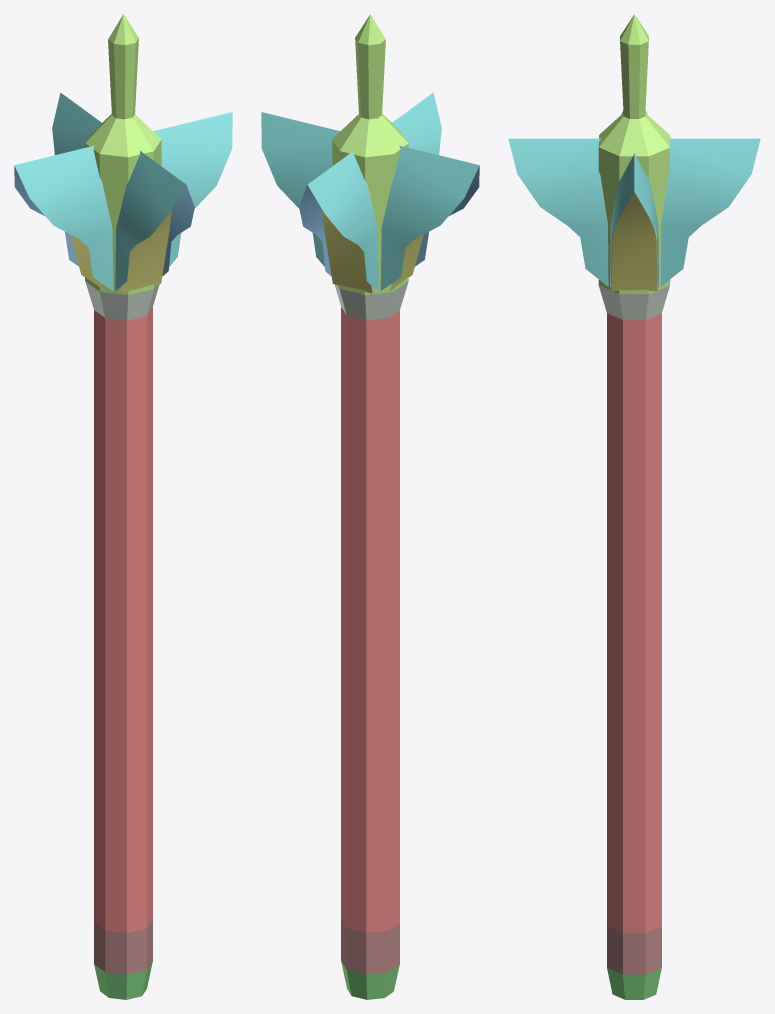
The model's file is O_E_ACC_Top.gltf.
3 renders of one model, left to right at view 1: azimuth 30°, elevation 25°; view 2: azimuth 150°, elevation 25°; view 3: azimuth 270°, elevation 25°, orthographic.
Visible parts, largest first — view 1: O_E_ACC_Top; view 2: O_E_ACC_Top; view 3: O_E_ACC_Top.
Boxes of the visible parts, <box> form: O_E_ACC_Top: <box>14,14,232,999</box>; O_E_ACC_Top: <box>261,14,479,999</box>; O_E_ACC_Top: <box>508,14,760,999</box>.
Size of the model in its own units: 1.35 by 5.75 by 1.35.
